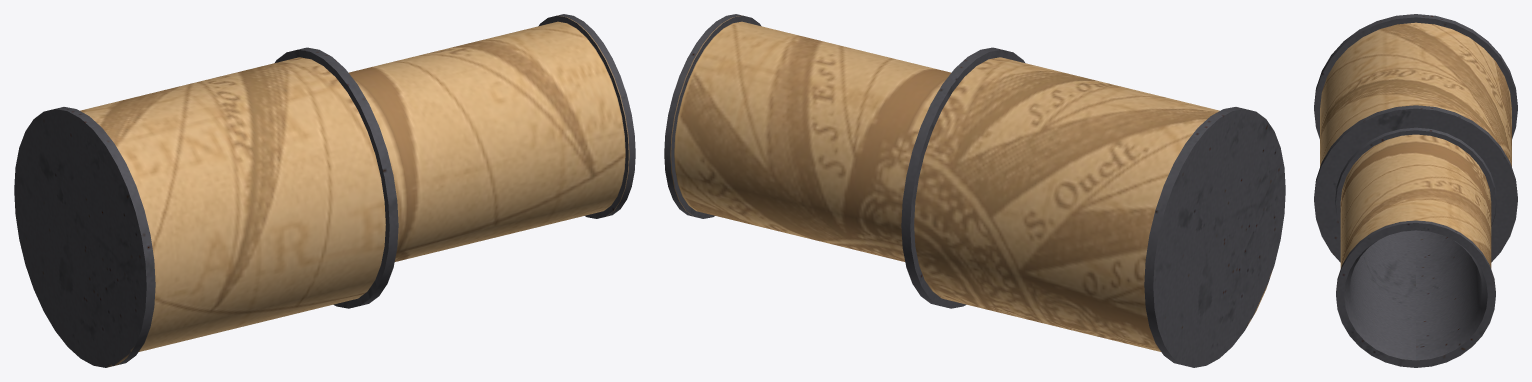
3 views of the same model, side by side, from view 1: azimuth 30°, elevation 25°; view 2: azimuth 150°, elevation 25°; view 3: azimuth 270°, elevation 25° (orthographic). The views are drawn at different scales.
Visible parts, largest first — view 1: Circle_primitive0; view 2: Circle_primitive0; view 3: Circle_primitive0, Circle_primitive2.
Part boxes in pixels (x1,y1,x2,y2): Circle_primitive0: (14,14,635,367); Circle_primitive0: (664,14,1285,367); Circle_primitive0: (1314,14,1517,367); Circle_primitive2: (1349,230,1482,349).
Bounding box in the file's own units: 5.18 × 2.36 × 2.36.
Materials: 3 (2 with a texture image).
